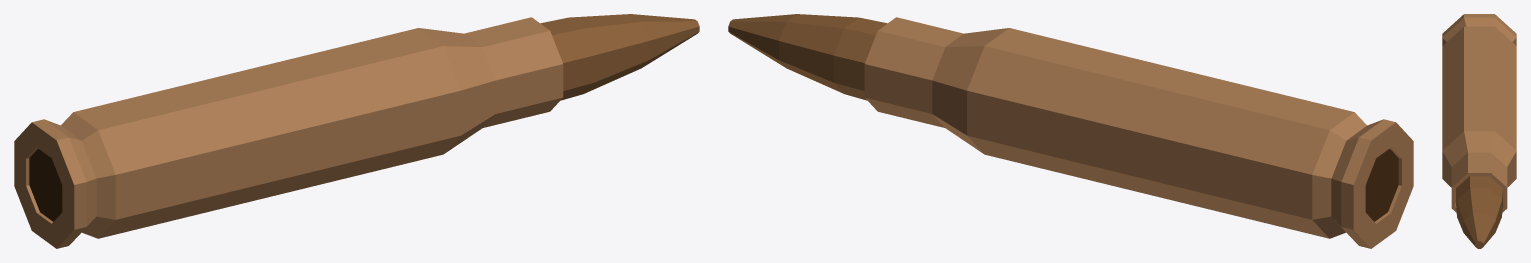
Rendered from Bullet_02.fbx.
The picture shows the model from 3 angles, left to right: view 1: azimuth 30°, elevation 25°; view 2: azimuth 150°, elevation 25°; view 3: azimuth 270°, elevation 25°; orthographic projection. The views are drawn at different scales.
Visible parts, largest first — view 1: Bullet_02_2, Bullet_02; view 2: Bullet_02_2, Bullet_02; view 3: Bullet_02_2, Bullet_02.
Part boxes in pixels (left/top/right/bottom): Bullet_02_2: left=14, top=17, right=563, bottom=248; Bullet_02: left=540, top=14, right=699, bottom=100; Bullet_02_2: left=864, top=17, right=1413, bottom=248; Bullet_02: left=728, top=14, right=887, bottom=100; Bullet_02_2: left=1442, top=14, right=1516, bottom=212; Bullet_02: left=1456, top=176, right=1502, bottom=248.
Size of the model in its own units: 6.25 by 0.9949 by 0.9949.
